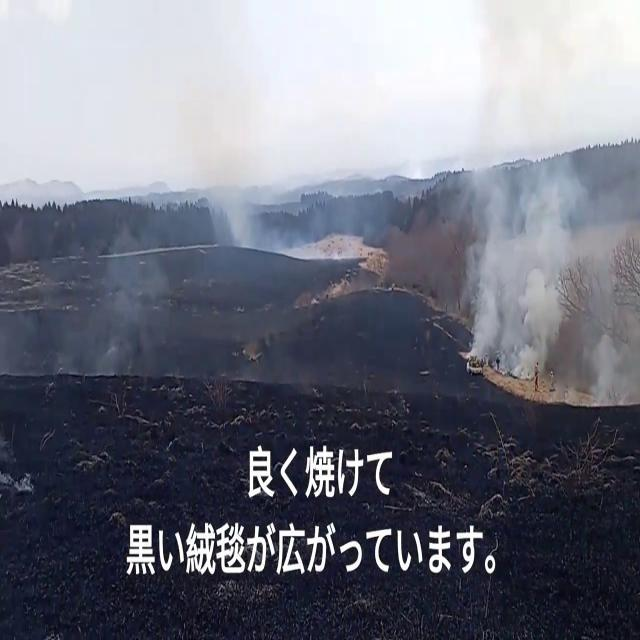Smoke: (455, 92, 640, 391), (66, 216, 180, 380), (204, 174, 316, 264)
